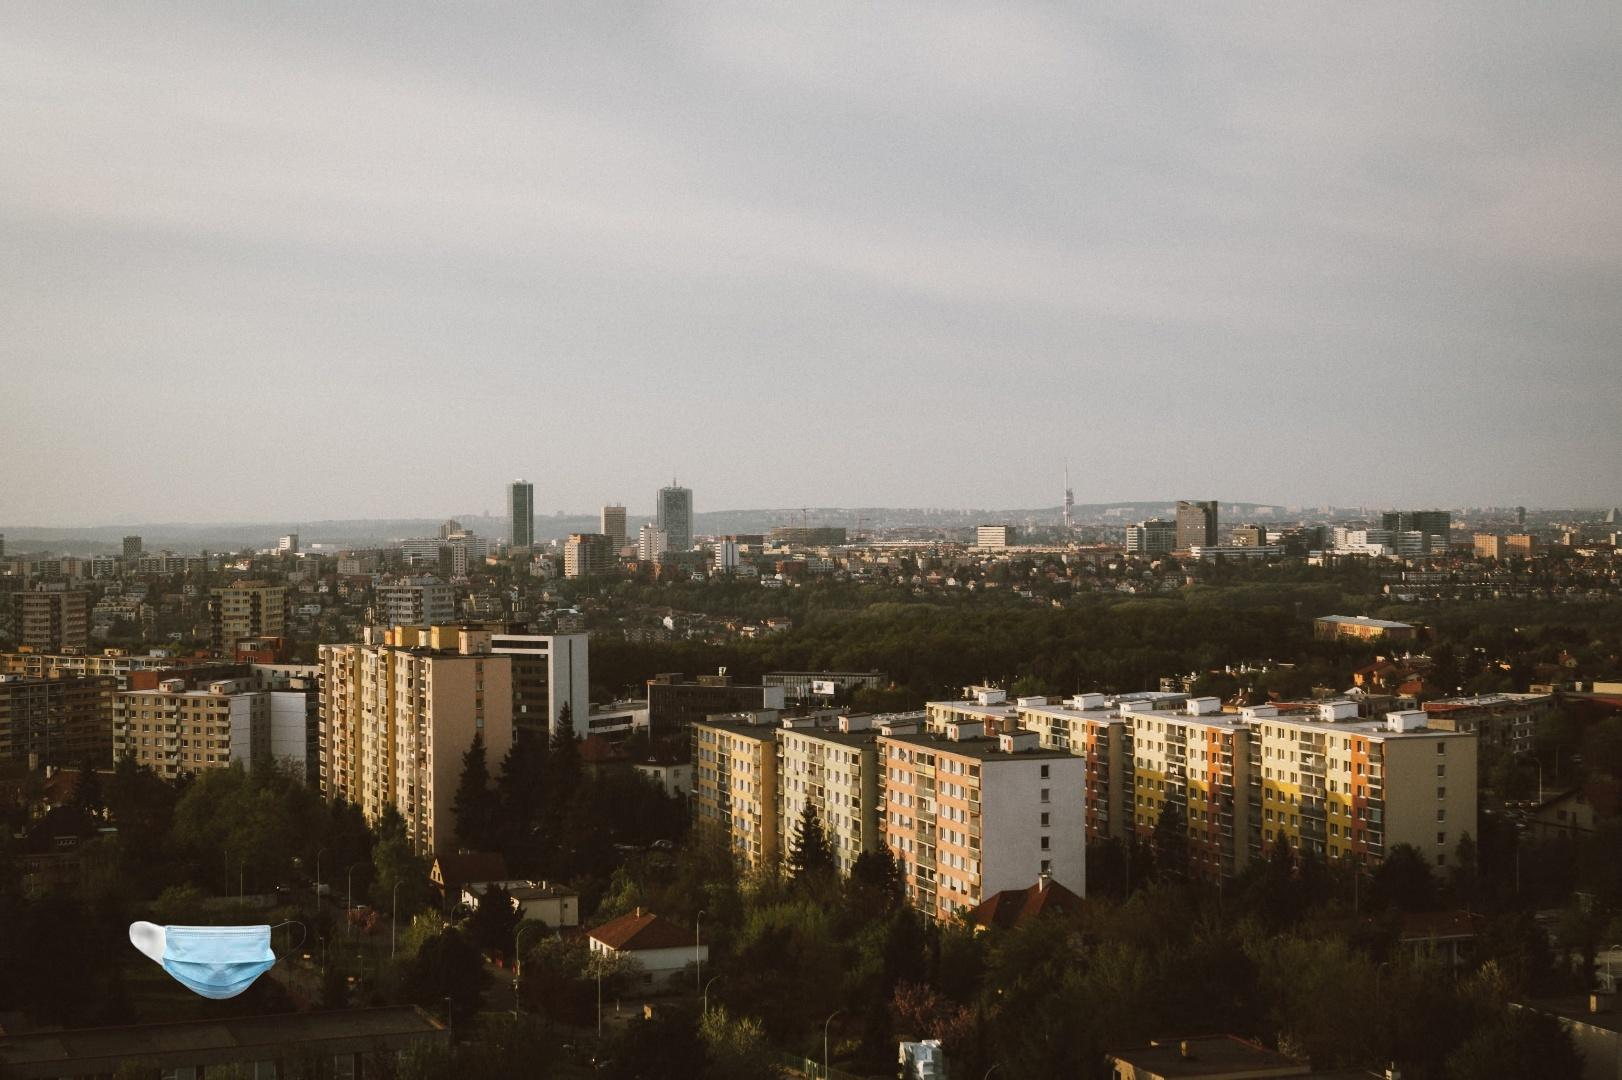trash: (127, 918, 308, 1002)
